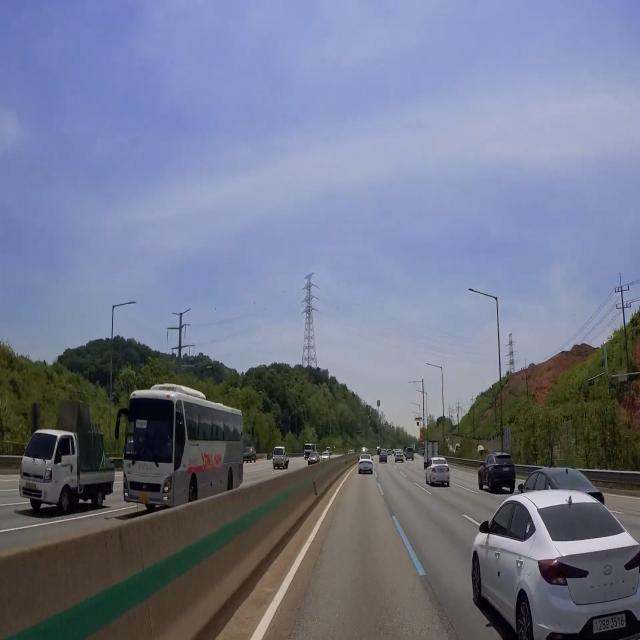car: (590, 609, 630, 637), (136, 490, 152, 506), (21, 481, 39, 491), (501, 464, 512, 474), (437, 467, 446, 473), (362, 466, 369, 471)
